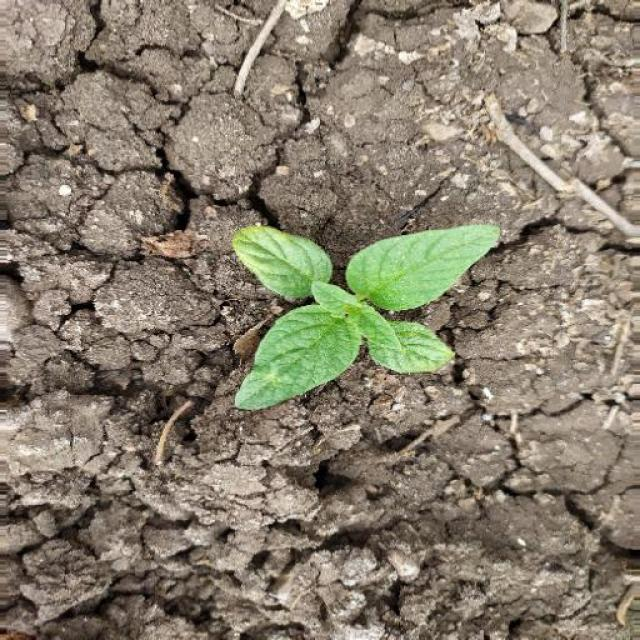crop: (201, 212, 521, 426)
